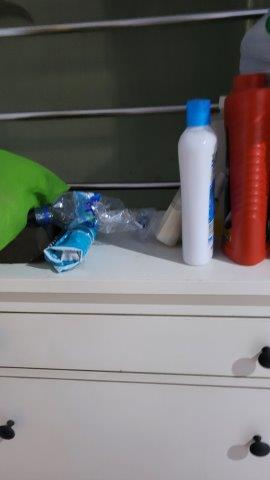botolplastik: (30, 189, 158, 241)
